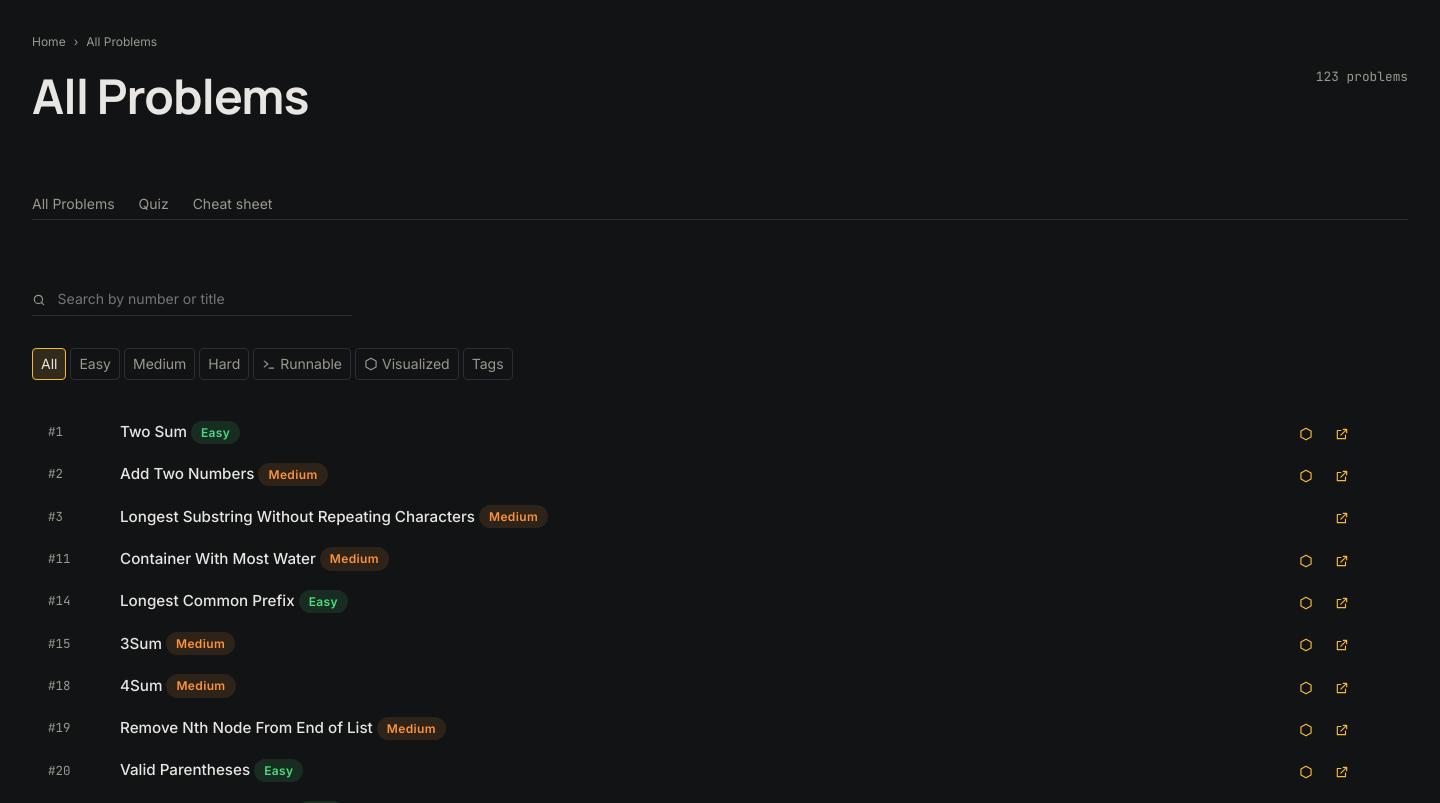
Test: PracticeListComponent › search narrows the chip-filtered rows by title, and says No matches for an unknown number
This screenshot has width=1440, height=803.
Click the button "Hard" at [224, 364], box [199,348,249,380]
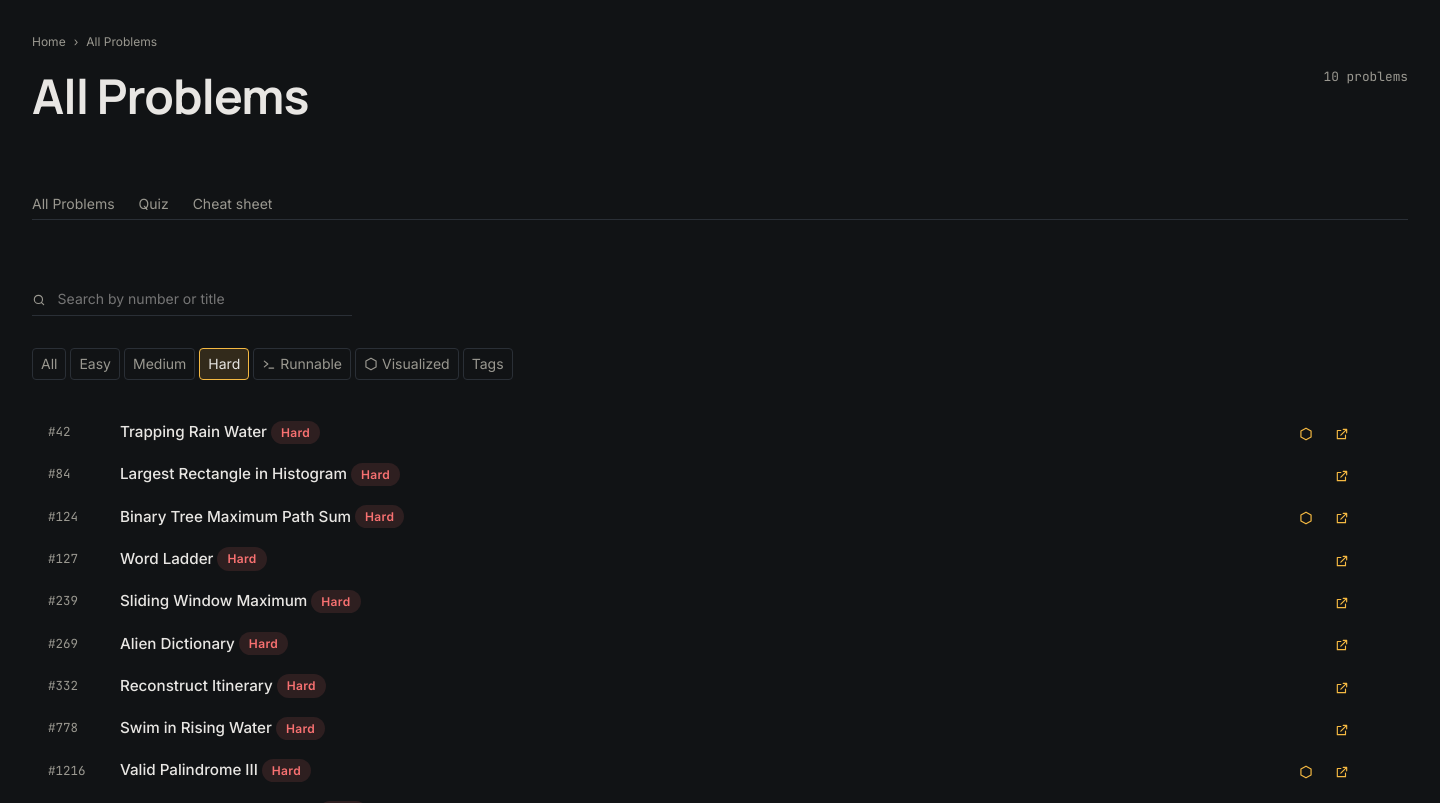
Type "water" into the search field with placeholder "Search by number or title" at [192, 300], box [32,284,352,316]
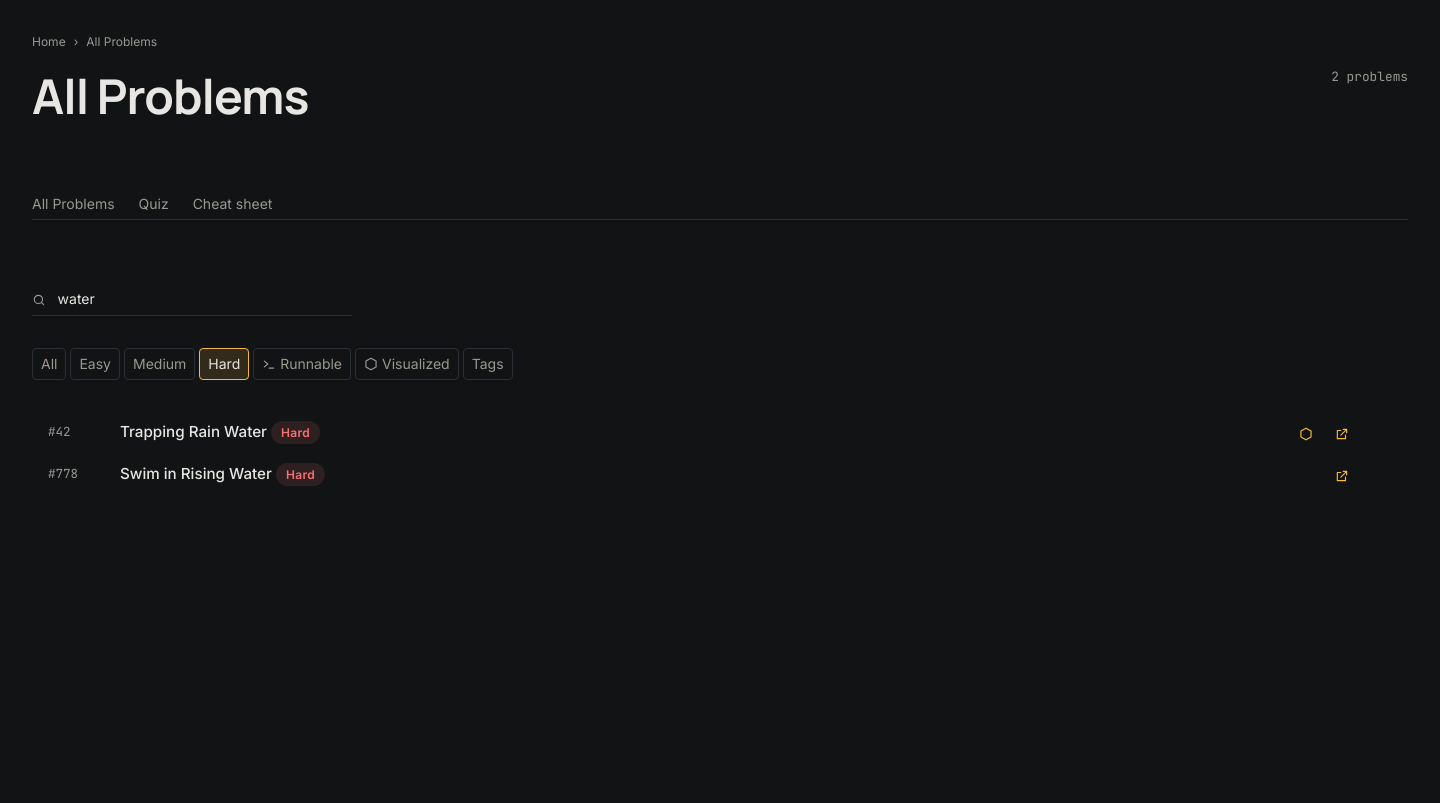
Replace the text in the search field named "Search by number or title" with "99999" at [192, 300], box [32,284,352,316]
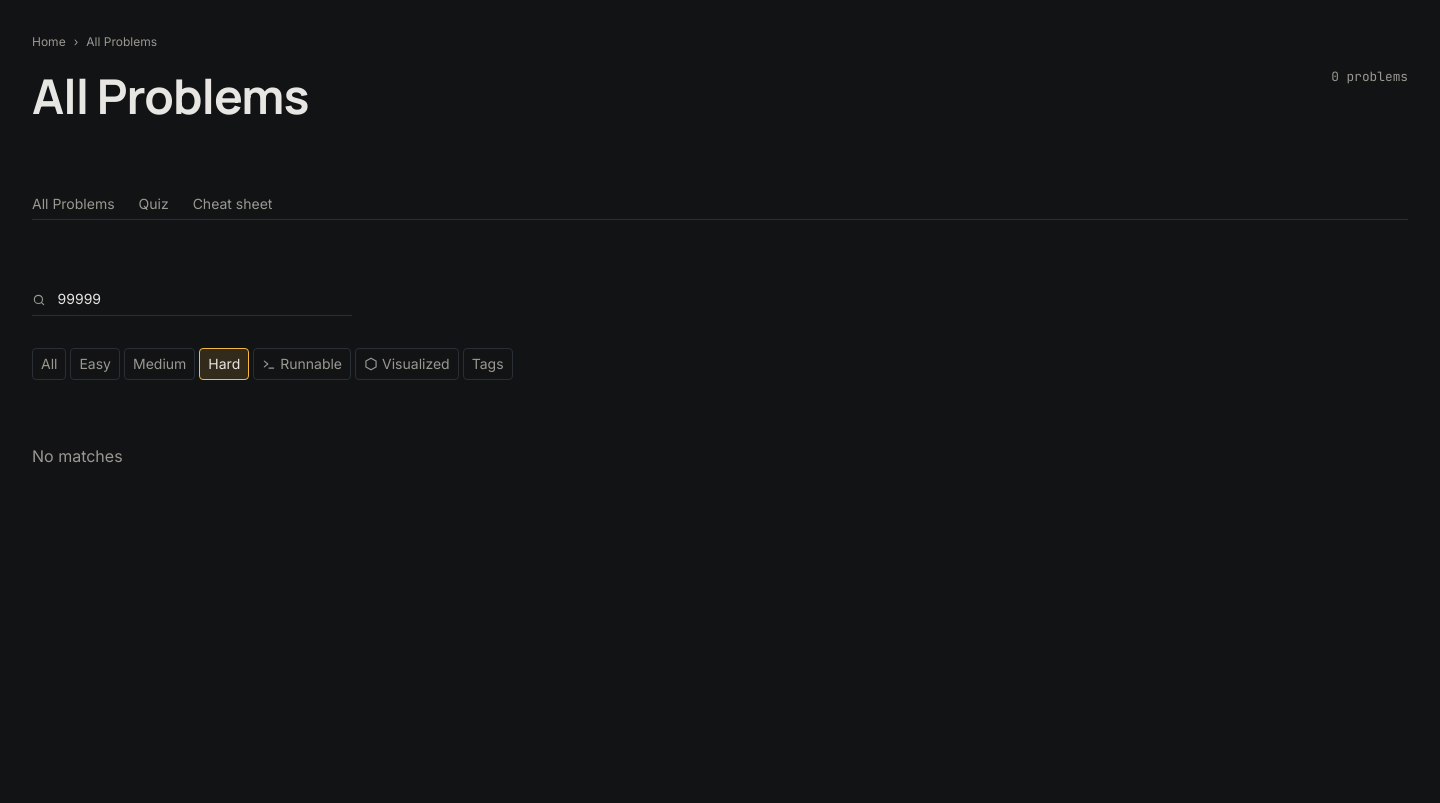
Check: the text "No matches" is shown, box [32,446,123,466]
